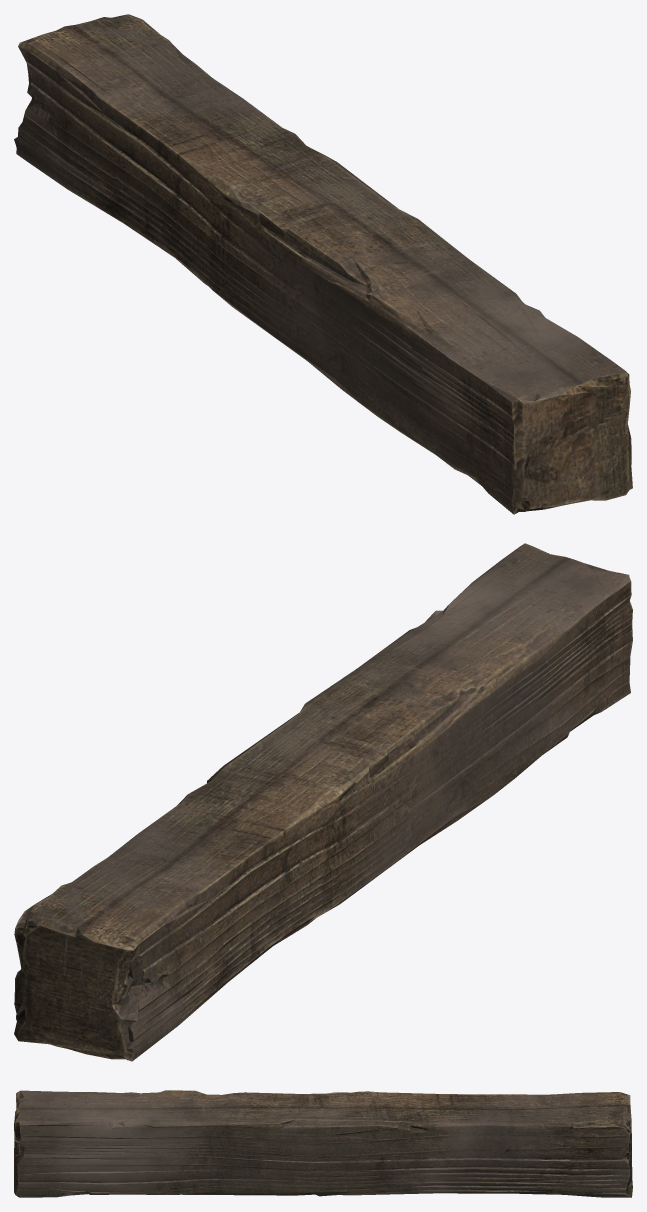
The model's file is SM_WoodBeam01.glb.
3 renders of one model, top to bottom at view 1: azimuth 30°, elevation 25°; view 2: azimuth 150°, elevation 25°; view 3: azimuth 270°, elevation 25°, orthographic. The views are drawn at different scales.
Parts seen in each view (by area): view 1: SM_WoodBeam01; view 2: SM_WoodBeam01; view 3: SM_WoodBeam01.
Boxes of the visible parts, left/top/right/bottom form: SM_WoodBeam01: left=14, top=14, right=632, bottom=514; SM_WoodBeam01: left=14, top=543, right=632, bottom=1061; SM_WoodBeam01: left=14, top=1090, right=632, bottom=1197.
Bounding box in the file's own units: 0.2884 × 0.2846 × 2.07.
1 material, 1 textured.
